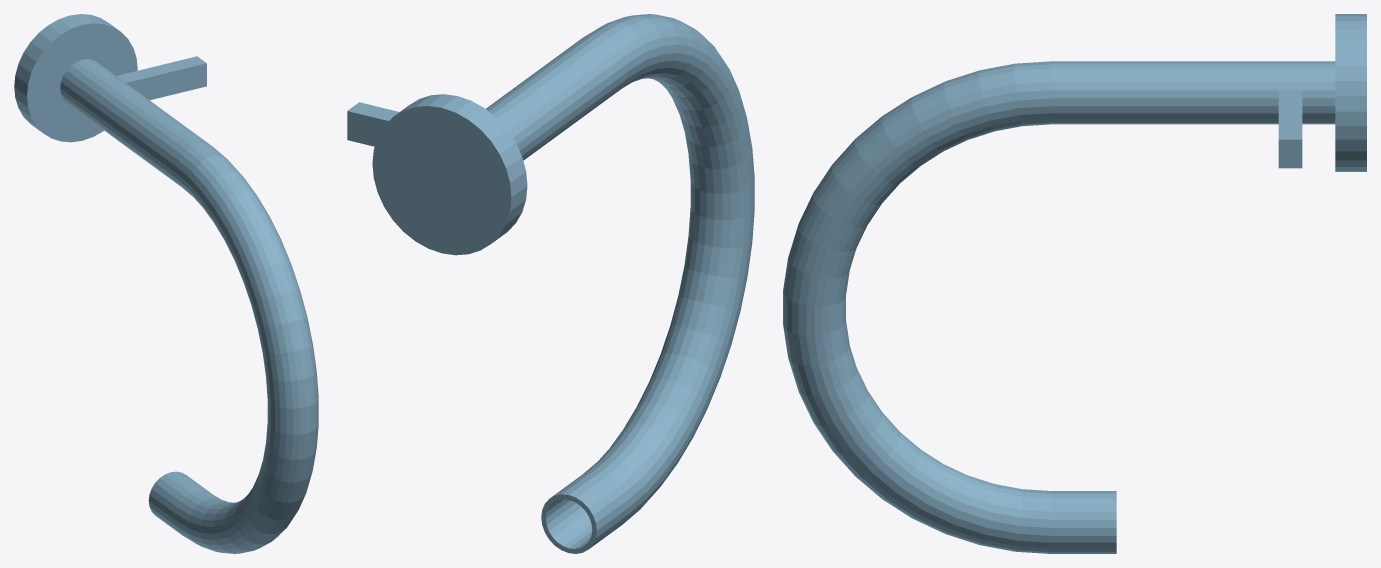
The picture shows the model from 3 angles, left to right: view 1: azimuth 30°, elevation 25°; view 2: azimuth 150°, elevation 25°; view 3: azimuth 270°, elevation 25°; orthographic projection. The views are drawn at different scales.
Parts seen in each view (by area): view 1: geometry_0; view 2: geometry_0; view 3: geometry_0.
Boxes of the visible parts, x1,y1,x2,y2 form: geometry_0: [14, 14, 318, 553]; geometry_0: [347, 14, 754, 553]; geometry_0: [783, 14, 1366, 553].
Size of the model in its own units: 85 by 222 by 222.
